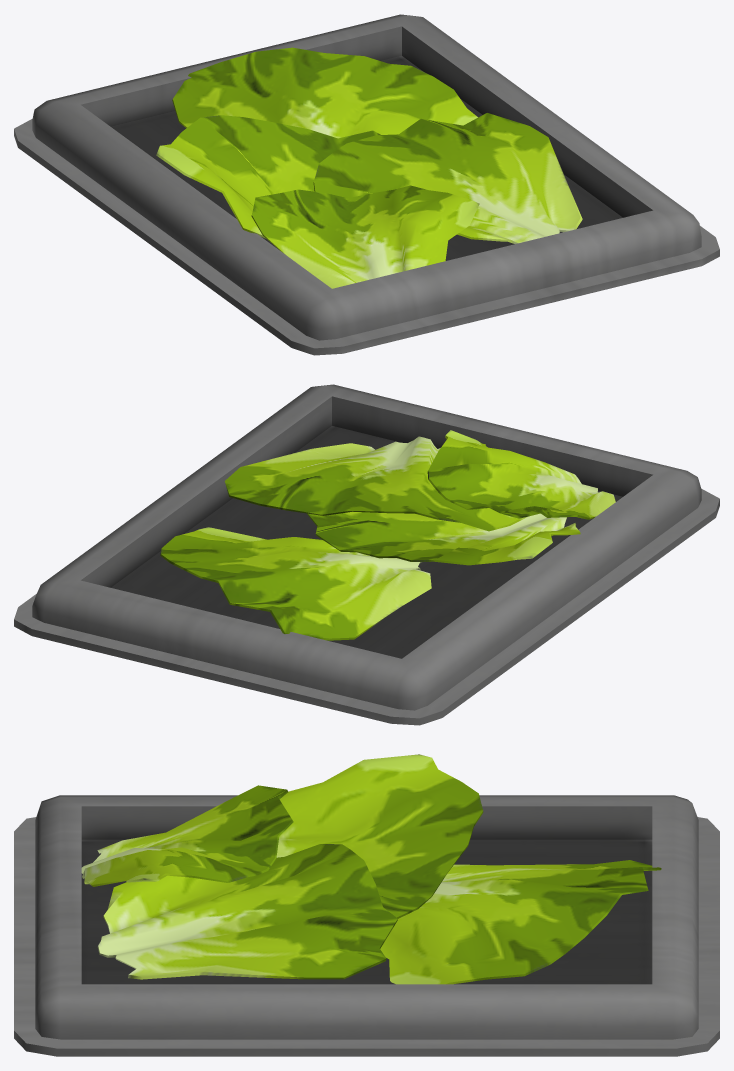
Rendered from rack_salad.FBX.
The picture shows the model from 3 angles, top to bottom: view 1: azimuth 30°, elevation 25°; view 2: azimuth 150°, elevation 25°; view 3: azimuth 270°, elevation 25°; orthographic projection. The views are drawn at different scales.
Visible parts, largest first — view 1: rack_salad; view 2: rack_salad; view 3: rack_salad.
Part boxes in pixels (bbox=[...]): rack_salad: bbox=[14, 14, 719, 355]; rack_salad: bbox=[14, 384, 719, 725]; rack_salad: bbox=[14, 754, 719, 1056].
Bounding box in the file's own units: 22.34 × 3.66 × 28.36.
